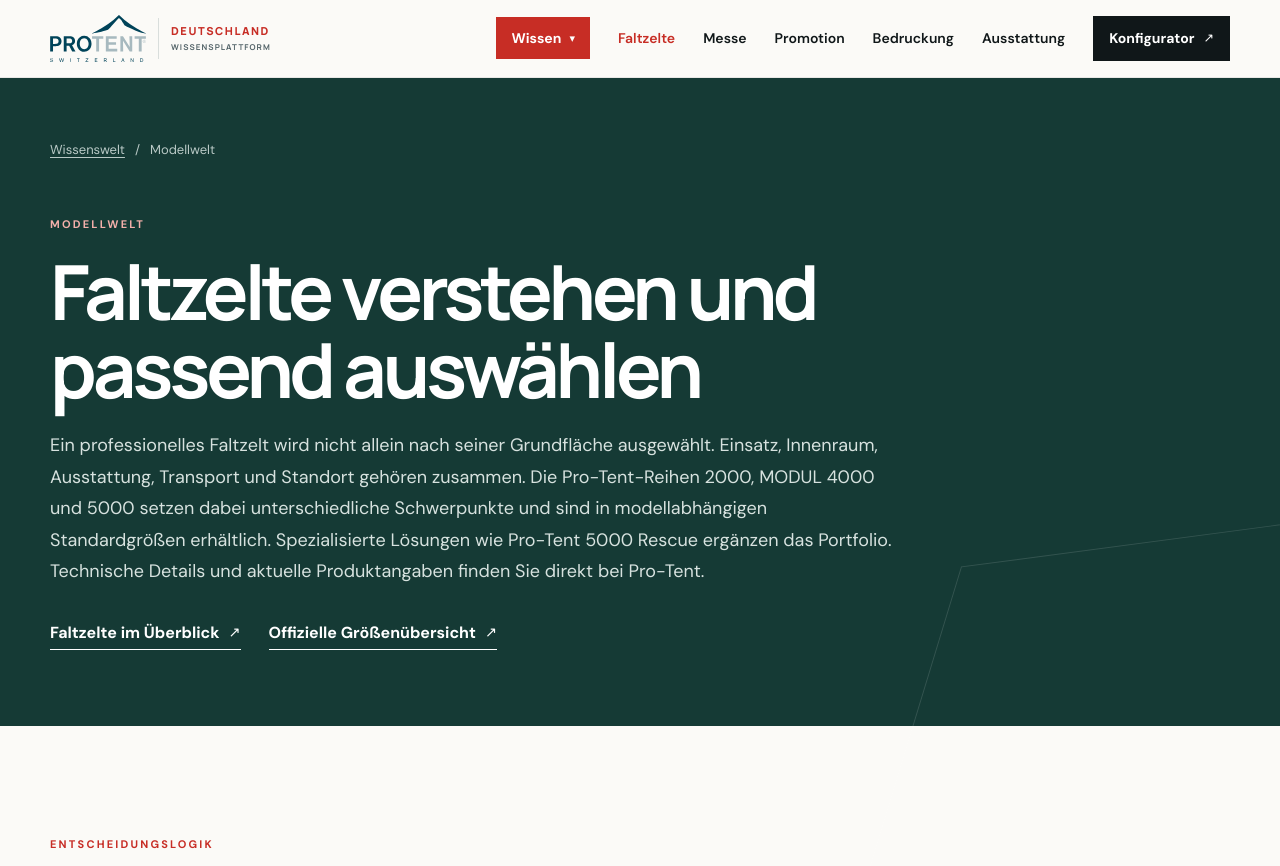
Test: routing › scrollt bei einem echten Pfadwechsel zuverlässig nach oben
The image size is (1280, 866).
Step 1. Click the button "Wissen" → (543,38), box [496,18,590,60]
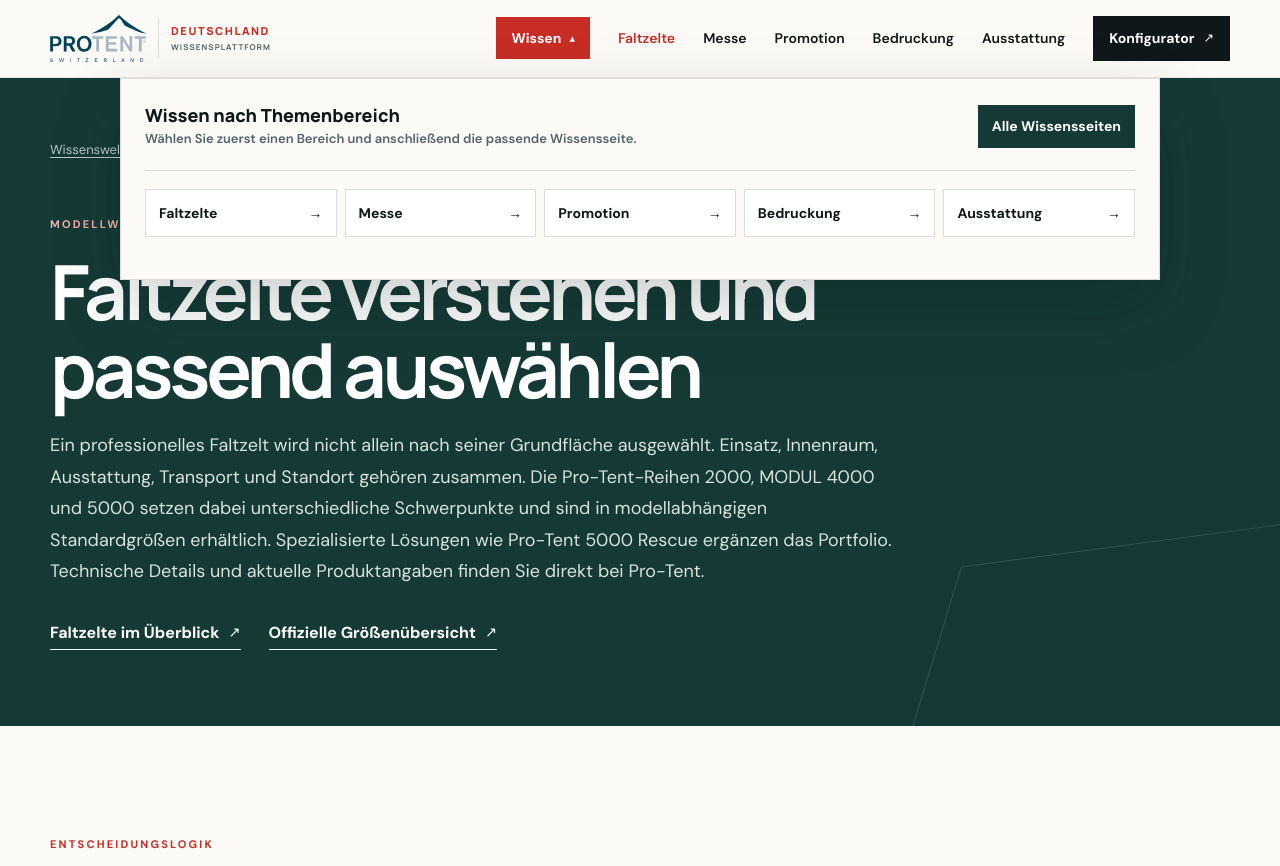
Step 2. Click the link "Messe" → (725,38), box [703,27,746,50]
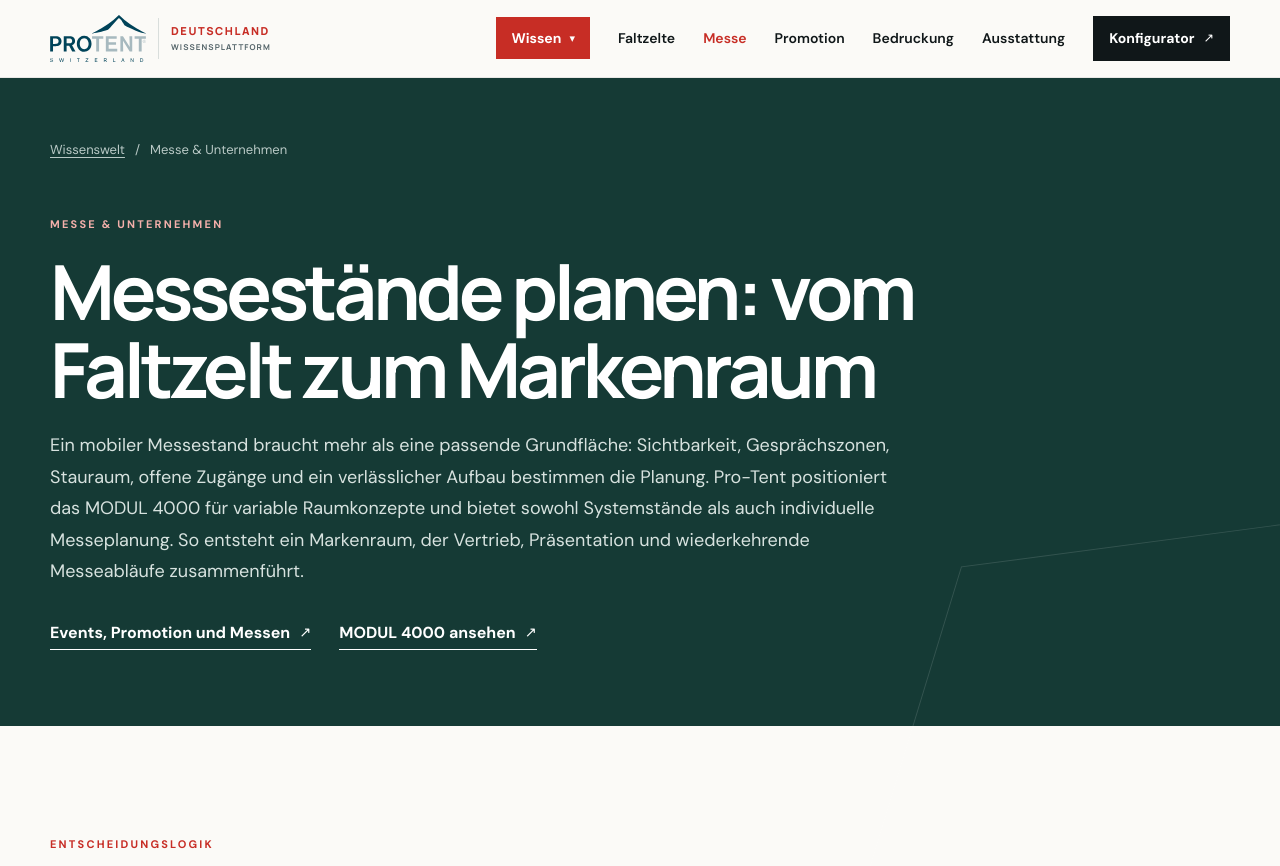
Result: the heading "Messestände planen: vom Faltzelt zum Markenraum" is shown at [50,253,950,408]
